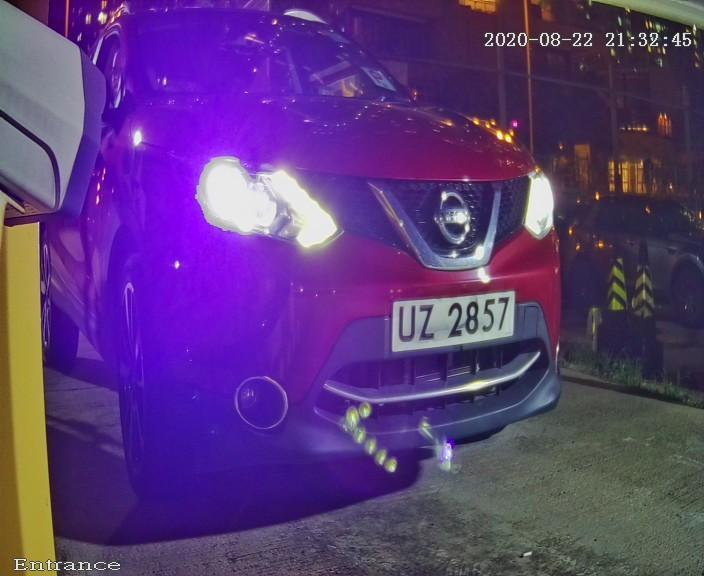Car: (26, 21, 601, 505)
License Plate: (359, 258, 538, 393)
